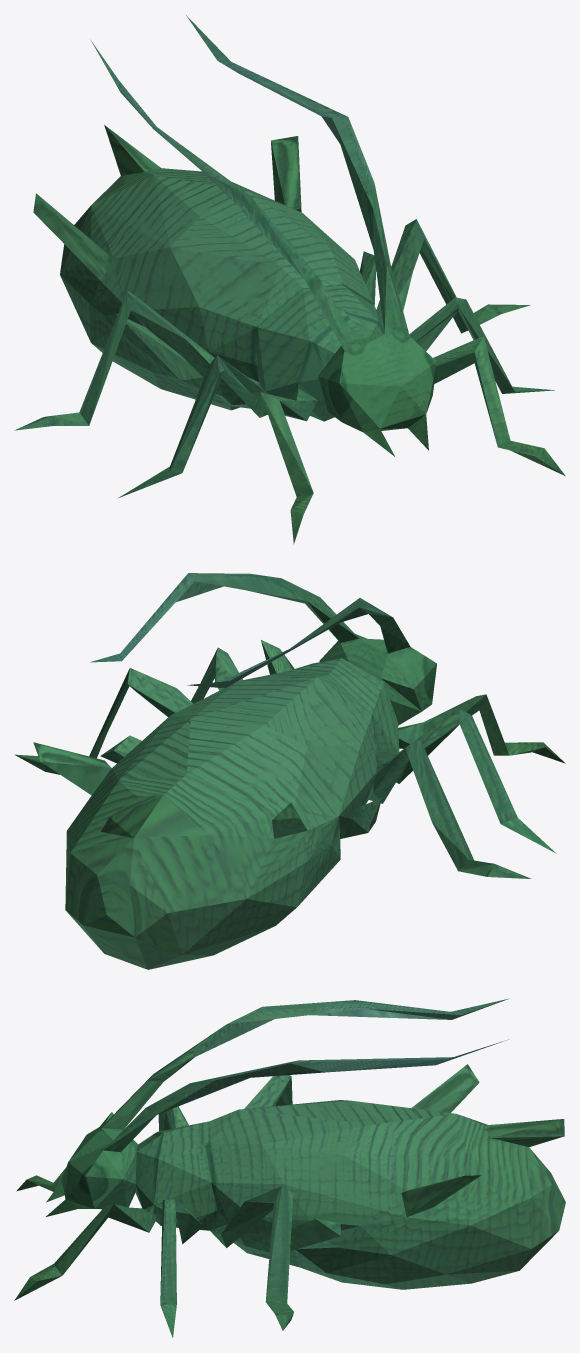
File: Aphid.fbx
3 renders of one model, top to bottom at view 1: azimuth 30°, elevation 25°; view 2: azimuth 150°, elevation 25°; view 3: azimuth 270°, elevation 25°, orthographic. The views are drawn at different scales.
Parts seen in each view (by area): view 1: geometry_0.004; view 2: geometry_0.004; view 3: geometry_0.004.
Part boxes in pixels (x1=…): geometry_0.004: x1=14, y1=15, x2=565, y2=544; geometry_0.004: x1=14, y1=573, x2=565, y2=969; geometry_0.004: x1=14, y1=998, x2=565, y2=1337.
Size of the model in its own units: 91.41 by 52.6 by 99.46.
